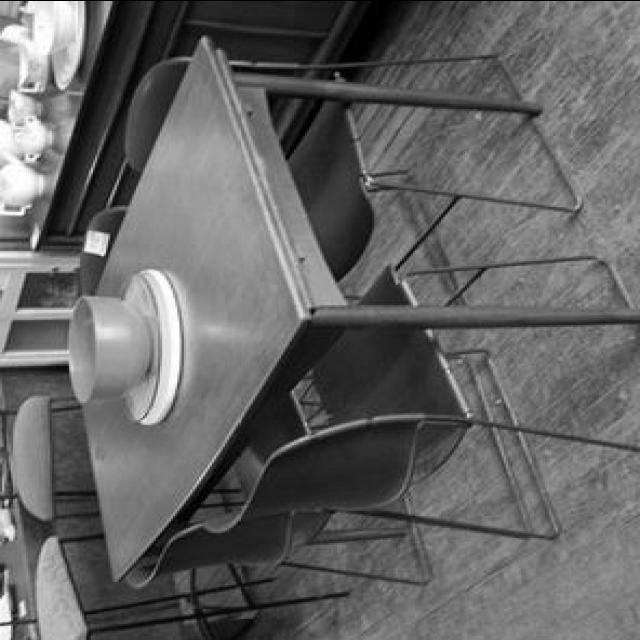chair: (199, 252, 638, 544), (119, 49, 585, 292), (132, 413, 514, 610)
table: (96, 37, 640, 596)
